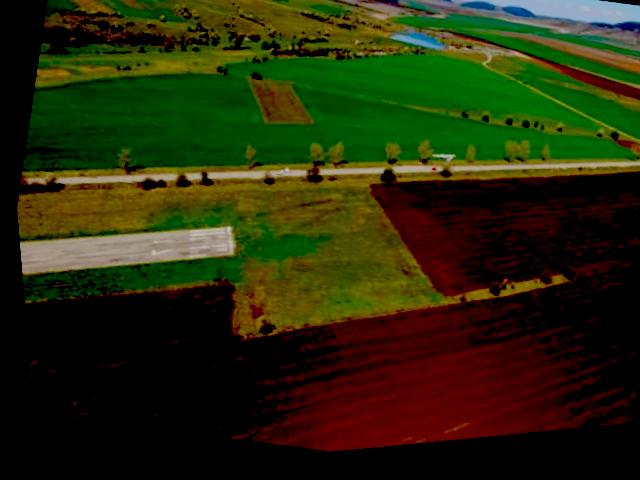uav: (424, 147, 459, 177)
